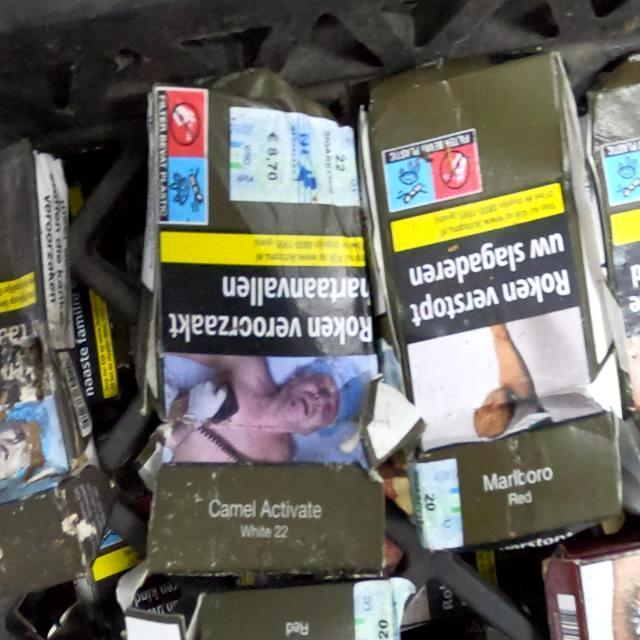Paper: (128, 81, 428, 581), (358, 46, 622, 554), (0, 136, 118, 584), (578, 81, 640, 515), (197, 576, 415, 640), (540, 540, 640, 640)
